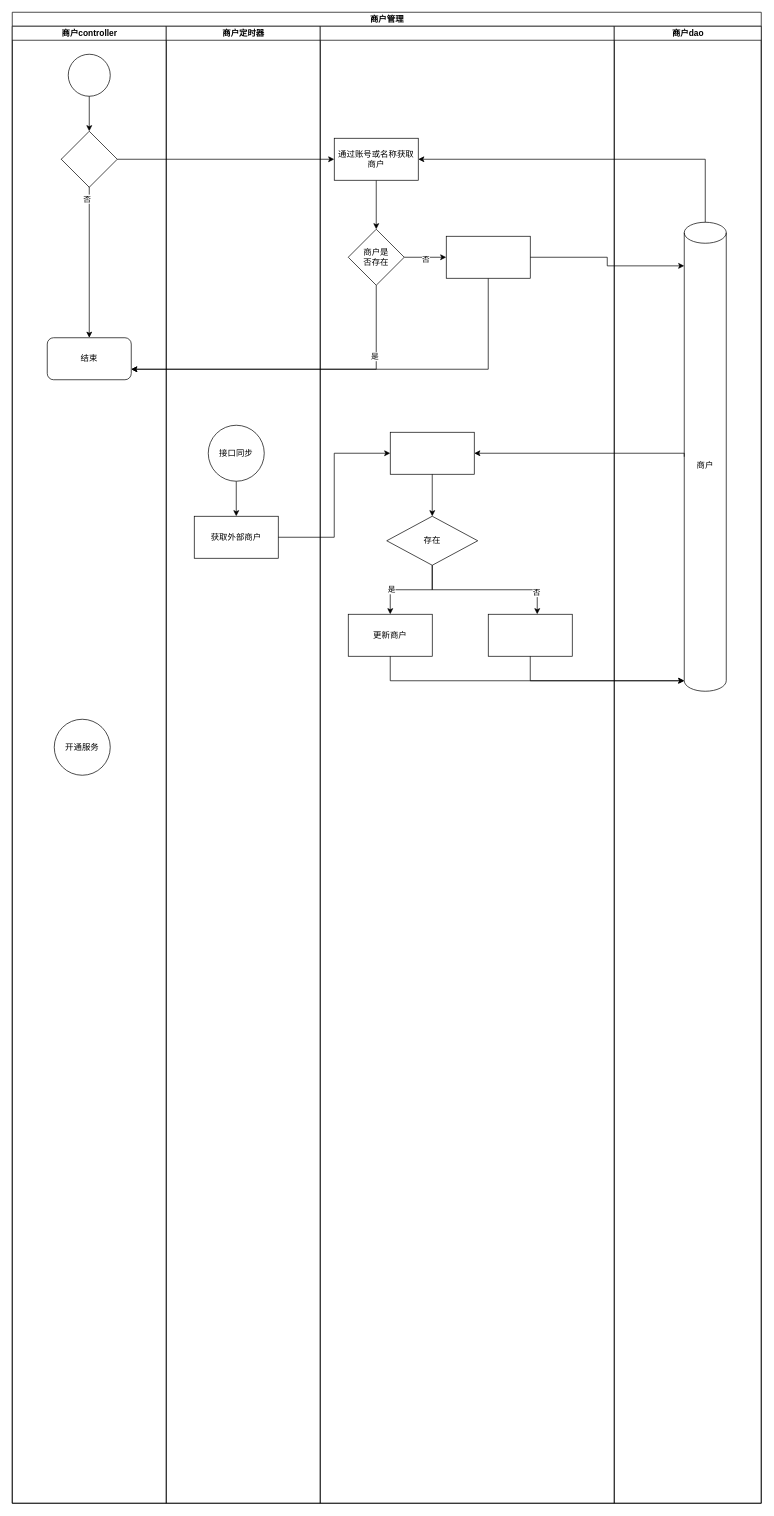
This 774x1516 diagram has some shape labels left out. Here are the shapes that lost their labels. From the top down, the box of each, then its label:
(68, 54, 110, 96): 手工新增
(61, 131, 117, 187): 参数校验
(446, 236, 530, 278): 入库
(390, 432, 474, 474): 通过id获取商户
(488, 614, 572, 656): 新增商户
(320, 26, 614, 1503): 商户service
